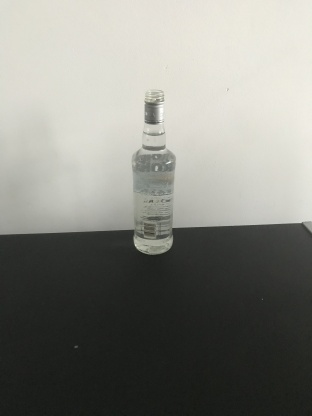nakretka: (142, 88, 166, 125)
